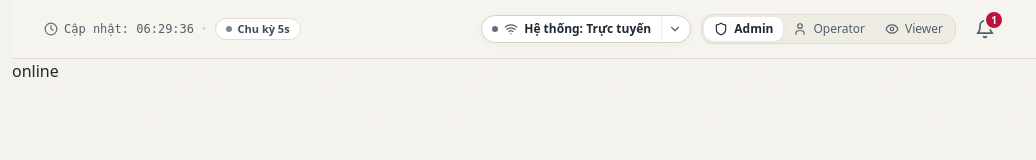
Scenario: Adversarial Verification: Safety Invariants & Boundary Conditions › Boundary Condition 2: Online / Offline Network Status Reactivity › toggles from Online to Offline and updates UI badge & context state
Expected: the text "Hệ thống: Trực tuyến" is shown, [524,21,651,37]
Expected: the text with test id "context-status" reads "online", [12,60,59,82]
// Click to toggle to offline
Click the button with test id "connection-status-btn".
click(572, 29)  # box [482,17,661,41]
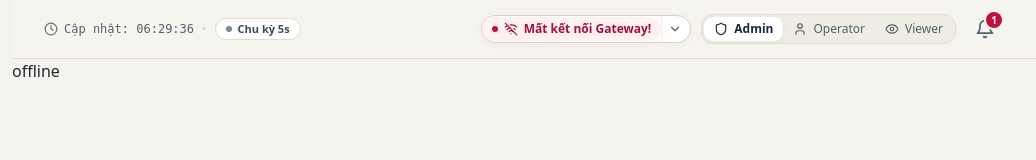
Expected: the text "Mất kết nối Gateway!" is shown, [524,21,651,37]
Expected: the text with test id "context-status" reads "offline", [12,60,60,82]
// Click to toggle back to online
Click the button with test id "connection-status-btn".
click(571, 29)  # box [482,17,661,41]
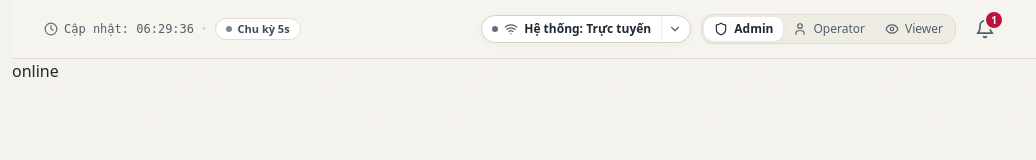
Expected: the text "Hệ thống: Trực tuyến" is shown, [524,21,651,37]
Expected: the text with test id "context-status" reads "online", [12,60,59,82]
